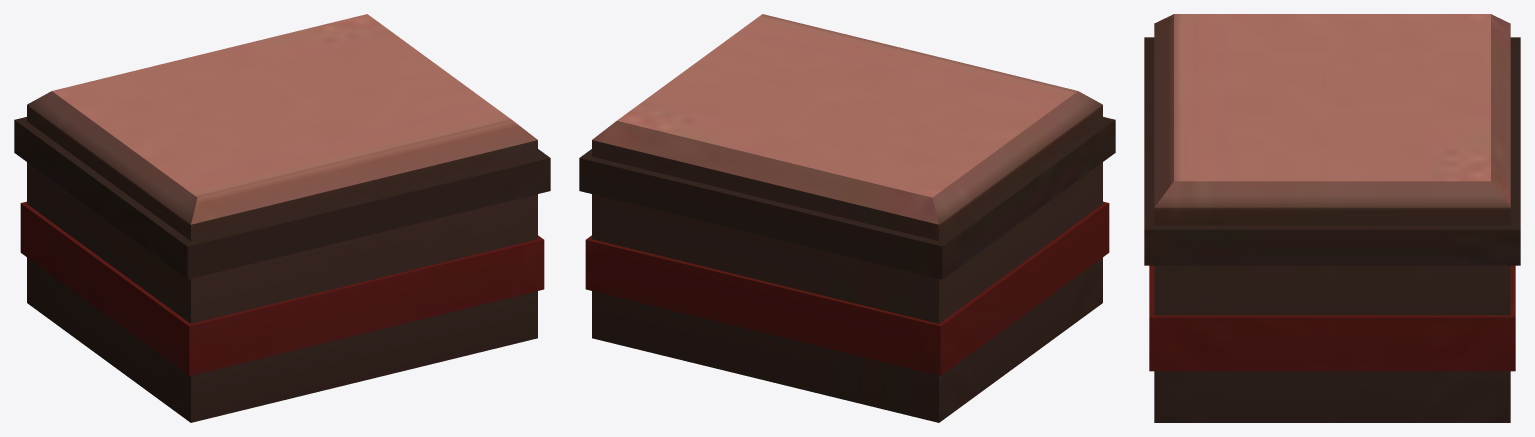
File: passive-provider-chest.glb
3 renders of one model, left to right at view 1: azimuth 30°, elevation 25°; view 2: azimuth 150°, elevation 25°; view 3: azimuth 270°, elevation 25°, orthographic. The views are drawn at different scales.
Parts seen in each view (by area): view 1: passive-provider-chest; view 2: passive-provider-chest; view 3: passive-provider-chest.
Boxes of the visible parts, bbox=[...] form: passive-provider-chest: bbox=[14, 14, 550, 422]; passive-provider-chest: bbox=[579, 14, 1115, 422]; passive-provider-chest: bbox=[1144, 14, 1520, 422].
Size of the model in its own units: 0.23 by 0.13 by 0.19.
Materials: 1 (1 with a texture image).
